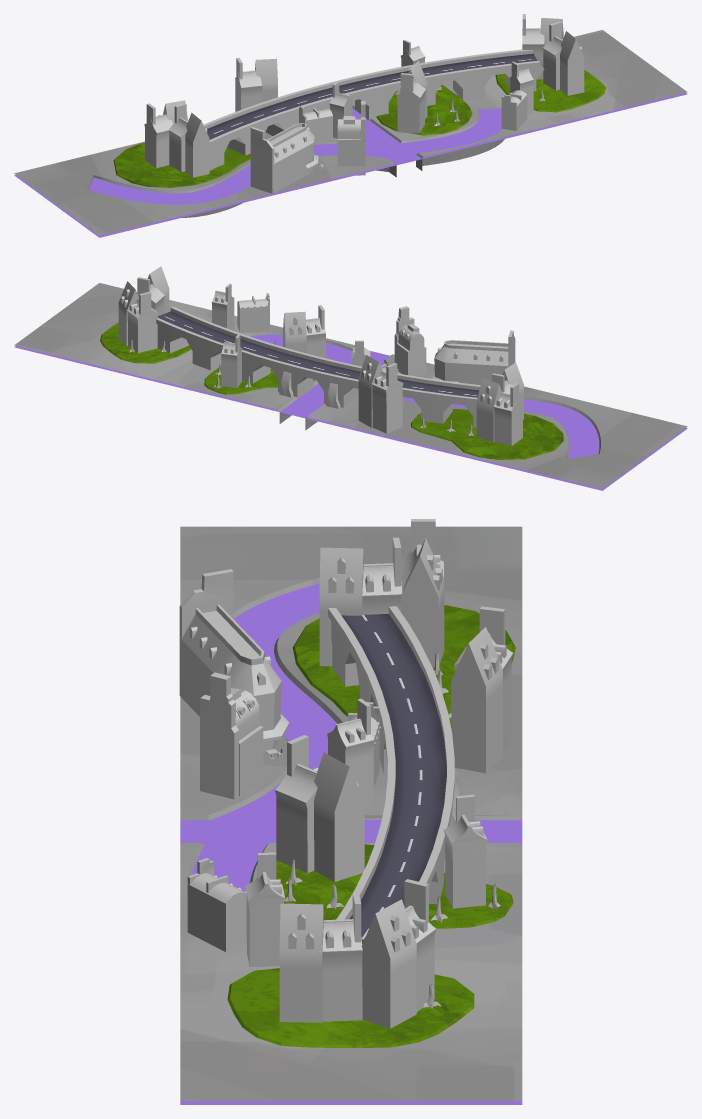
File: Separator_Chunk_AutoBridge.FBX
The picture shows the model from 3 angles, top to bottom: view 1: azimuth 30°, elevation 25°; view 2: azimuth 150°, elevation 25°; view 3: azimuth 270°, elevation 25°; orthographic projection. The views are drawn at different scales.
Parts seen in each view (by area): view 1: Object014; view 2: Object014; view 3: Object014.
Part boxes in pixels (bbox=[...]): Object014: bbox=[14, 14, 687, 237]; Object014: bbox=[14, 266, 687, 490]; Object014: bbox=[179, 519, 522, 1104].
Size of the model in its own units: 318 by 40.93 by 80.16.
